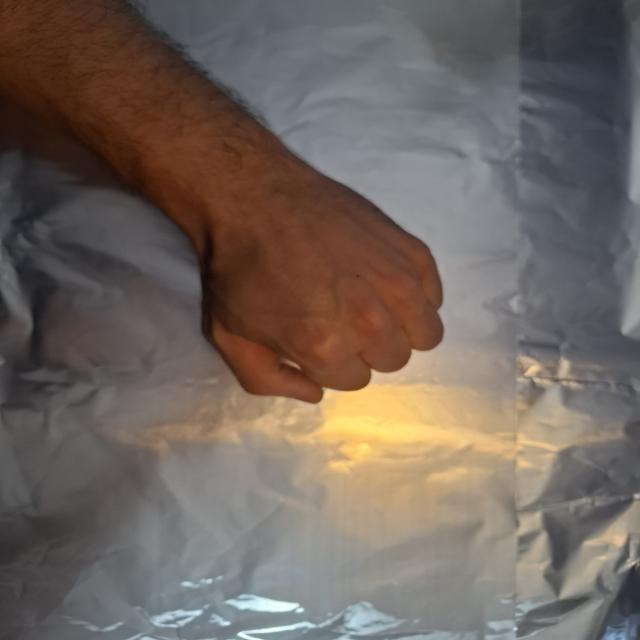glove_off: (194, 184, 446, 406)
